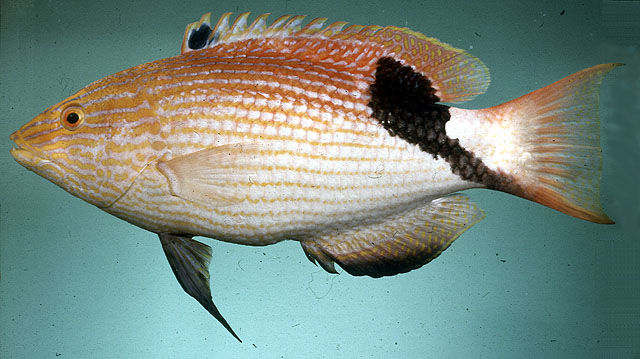fish: (11, 11, 625, 345)
